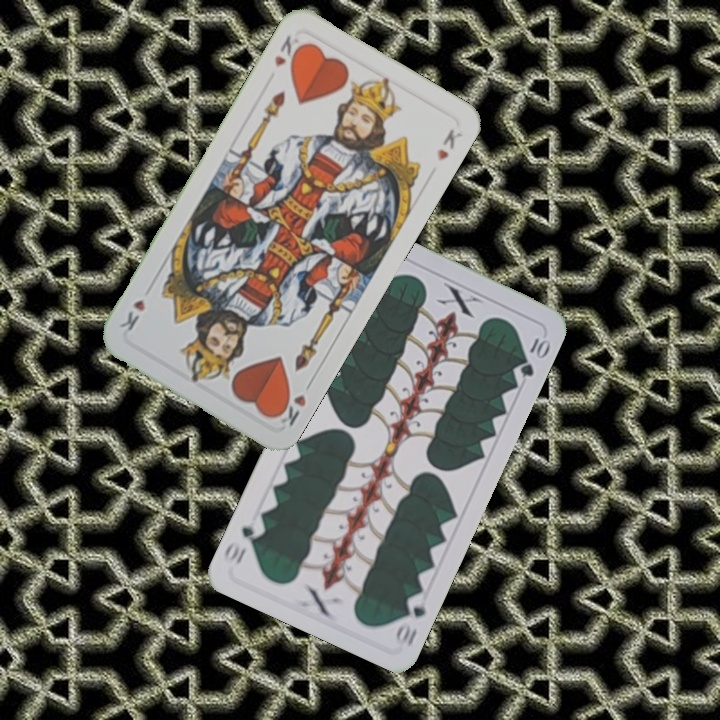G10: (391, 589, 429, 650)
HK: (271, 376, 316, 430), (270, 31, 306, 72)
